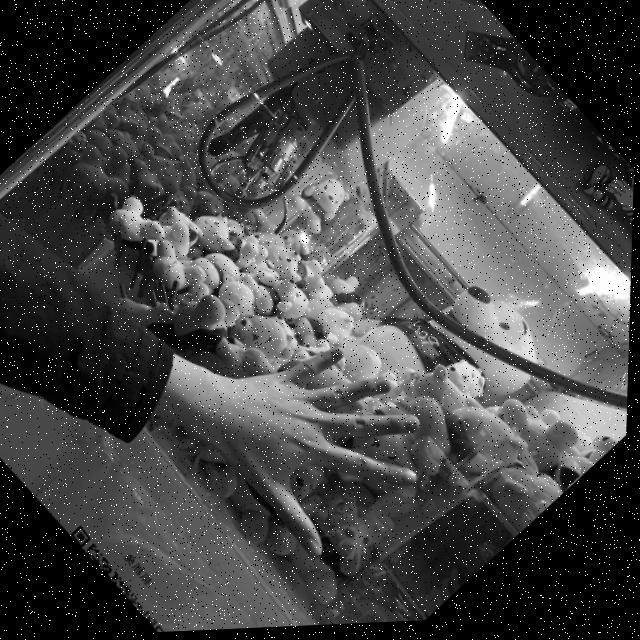no-gloves: (188, 300, 457, 574)
